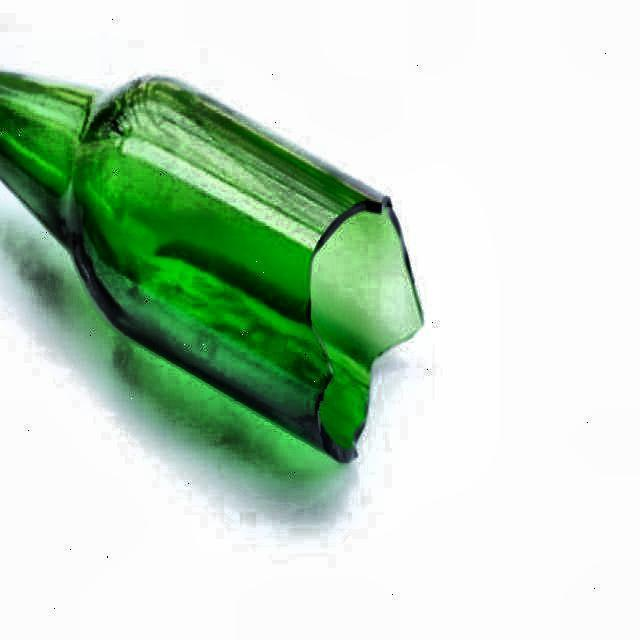glass: (0, 71, 426, 465)
